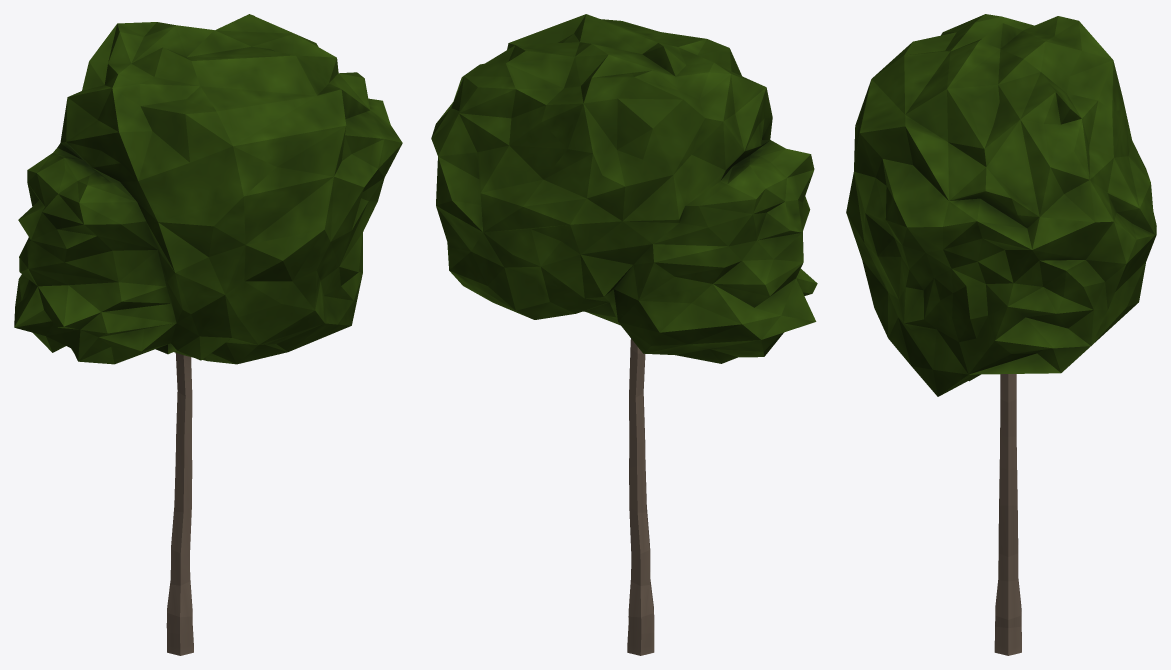
File: common.glb
The picture shows the model from 3 angles, left to right: view 1: azimuth 30°, elevation 25°; view 2: azimuth 150°, elevation 25°; view 3: azimuth 270°, elevation 25°; orthographic projection.
Visible parts, largest first — view 1: node-0; view 2: node-0; view 3: node-0.
Boxes of the visible parts, <box> form: node-0: <box>14,14,402,655</box>; node-0: <box>431,14,817,655</box>; node-0: <box>846,14,1156,655</box>.
Bounding box in the file's own units: 8.95 × 14.25 × 6.51.
1 material, 1 textured.
